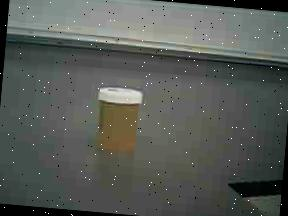Bottle B: (85, 79, 152, 161)
